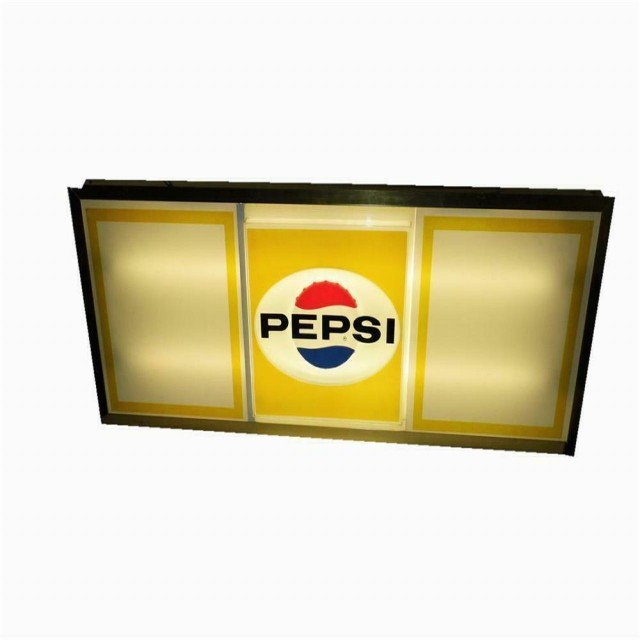pepsi: (253, 274, 399, 374)
